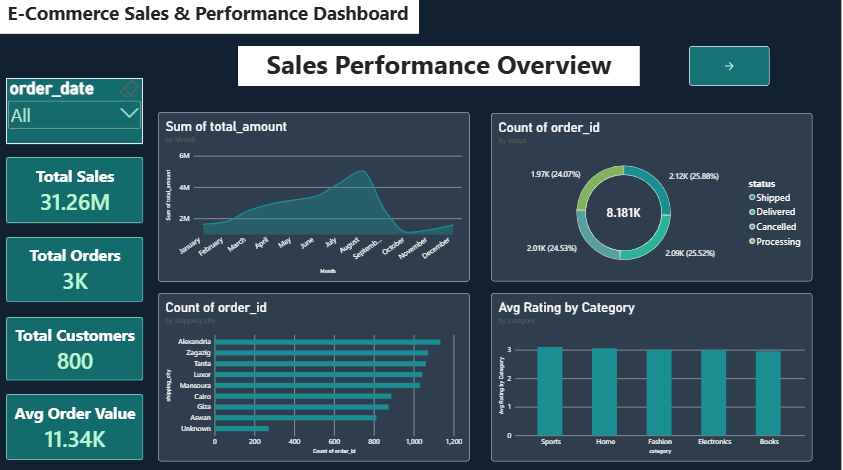

Layout of this report page (visuals, bound fields, positions):
{"tool":"powerbi","page":{"name":"Overview","canvas":[1920,1080],"ordinal":0},"visuals":[{"type":"textbox","box":[0,0,960,76.7],"z":0},{"type":"textbox","box":[548.6,105.7,914.3,91.4],"z":1000},{"type":"cardVisual","fields":{"Data":["orders_clean.Total Sales"]},"box":[20,357.1,312.4,150.5],"z":2000},{"type":"cardVisual","fields":{"Data":["orders_clean.Total Orders"]},"box":[20,540,312.4,147.7],"z":3000},{"type":"cardVisual","fields":{"Data":["customers_clean.Total Customers"]},"box":[20,720,312.4,144.9],"z":4000},{"type":"cardVisual","fields":{"Data":["orders_clean.Avg Order Value"]},"box":[20,897.1,312,150],"z":5000},{"type":"lineChart","title":"Sum of total_amoun  t","fields":{"Category":["orders_clean.order_date.Variation.Date Hierarchy.Month"],"Y":["Sum(orders_clean.total_amount)"]},"box":[365.7,254.3,708.6,385.7],"z":6000},{"type":"donutChart","fields":{"Category":["orders_clean.status"],"Y":["CountNonNull(order_items_clean.order_id)"]},"box":[1122.9,257.1,731.4,382.9],"z":7000},{"type":"clusteredBarChart","fields":{"Category":["orders_clean.shipping_city"],"Y":["CountNonNull(order_items_clean.order_id)"]},"box":[365.7,665.7,708.6,382.9],"z":8000},{"type":"slicer","fields":{"Values":["orders_clean.order_date"]},"box":[20,177.1,311.4,151.4],"z":9000},{"type":"actionButton","box":[1574.3,105.7,182.9,91.4],"z":10000},{"type":"clusteredColumnChart","fields":{"Category":["products_clean.category"],"Y":["reviews_clean.Avg Rating by Category"]},"box":[1123,666,731,383],"z":11000}]}

Visuals, with their boxes in screenshot pixels (x1, y1, x2, y2), scaled from the page's 1920x1080 canvas onto the 843x470 screenshot:
textbox: x1=0 y1=0 x2=422 y2=33
textbox: x1=241 y1=46 x2=642 y2=86
cardVisual - orders_clean.Total Sales: x1=9 y1=155 x2=146 y2=221
cardVisual - orders_clean.Total Orders: x1=9 y1=235 x2=146 y2=299
cardVisual - customers_clean.Total Customers: x1=9 y1=313 x2=146 y2=376
cardVisual - orders_clean.Avg Order Value: x1=9 y1=390 x2=146 y2=456
"Sum of total_amoun  t" lineChart: x1=161 y1=111 x2=472 y2=279
donutChart - orders_clean.status x CountNonNull(order_items_clean.order_id): x1=493 y1=112 x2=814 y2=279
clusteredBarChart - orders_clean.shipping_city x CountNonNull(order_items_clean.order_id): x1=161 y1=290 x2=472 y2=456
slicer - orders_clean.order_date: x1=9 y1=77 x2=146 y2=143
actionButton: x1=691 y1=46 x2=772 y2=86
clusteredColumnChart - products_clean.category x reviews_clean.Avg Rating by Category: x1=493 y1=290 x2=814 y2=457
